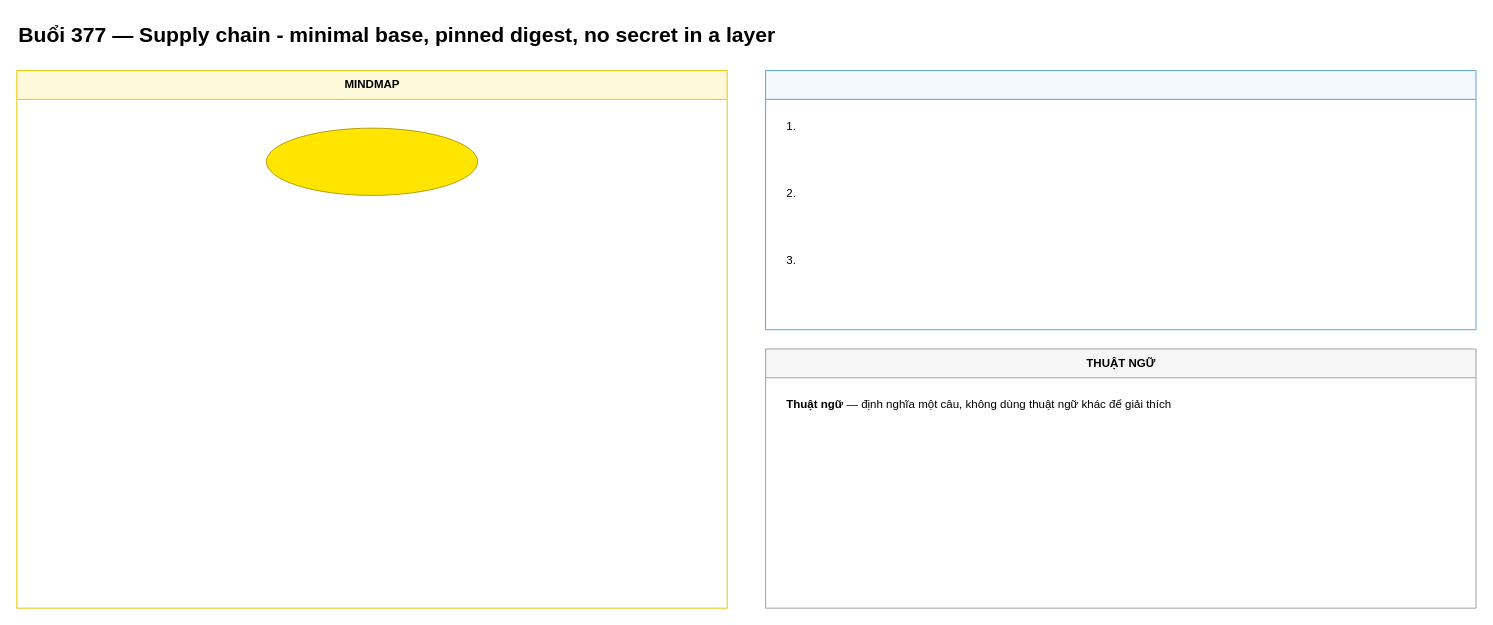
Some shapes in this 1493 by 625 pixel diagram are drawn without their labels. Here are the shapes that lost their labels. From the top down, the box of each, then its label:
(265, 127, 478, 195): Supply chain - minimal base, pinned digest, no secret in a layer
(765, 70, 1476, 330): KEY TAKEAWAY — ba điều phải nhớ
